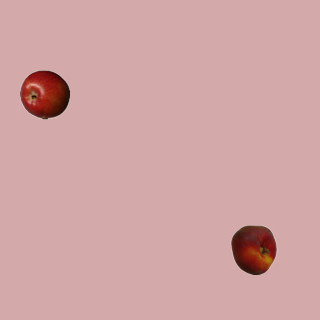Apple Braeburn: (19, 69, 69, 119)
Nectarine Flat: (228, 224, 278, 274)
